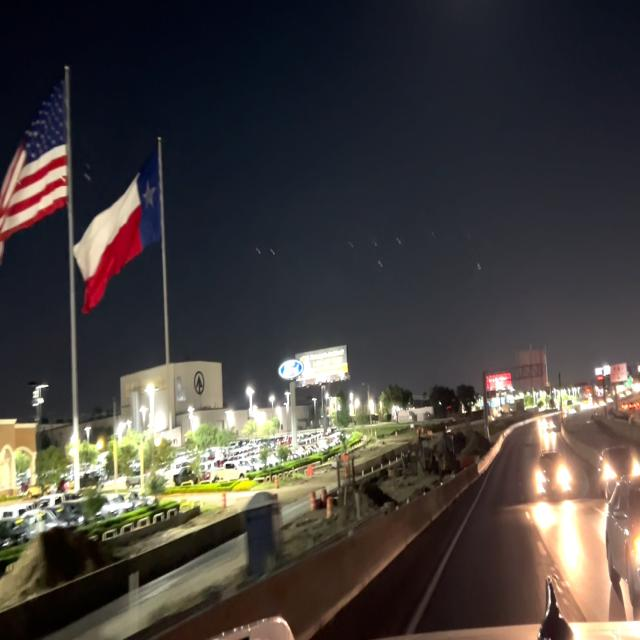back-of-sign: (512, 344, 549, 396)
